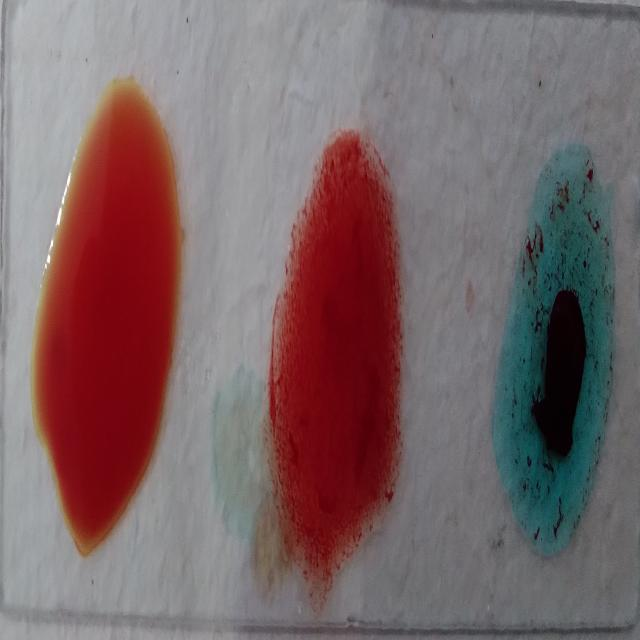A: (490, 160, 615, 562)
D: (279, 147, 402, 584)
